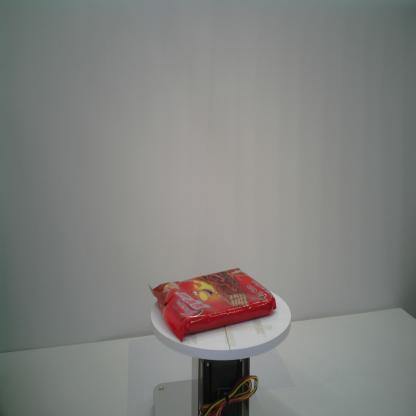Dessert: (148, 268, 277, 344)
